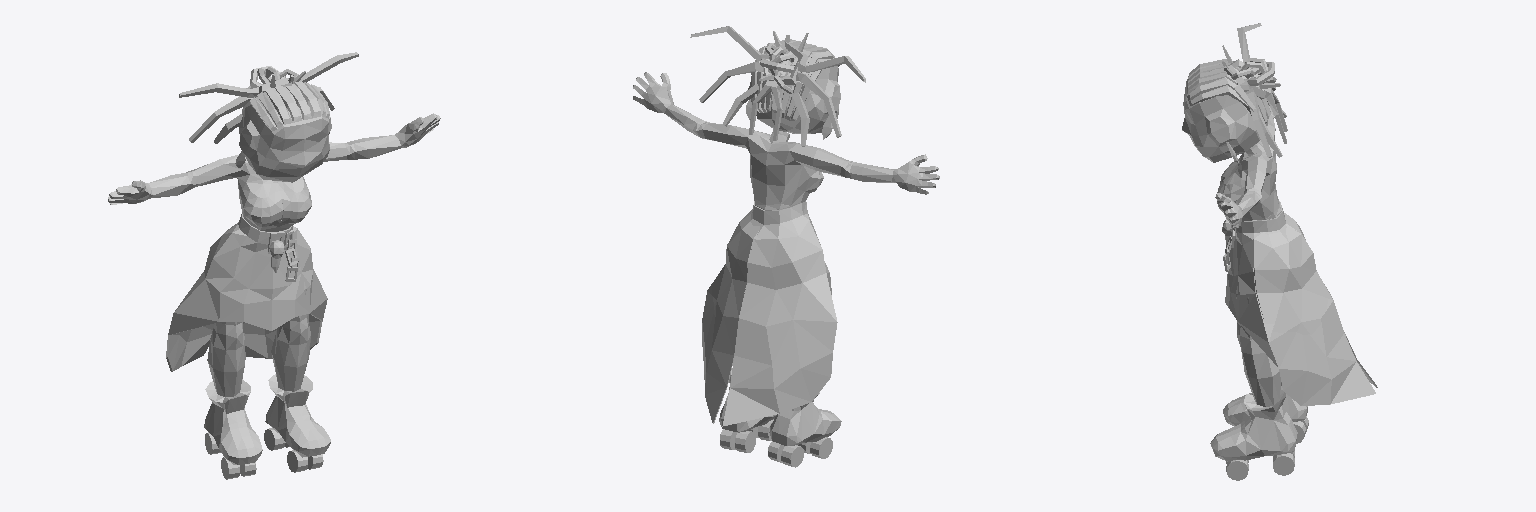
File: bruja_000078.obj
The picture shows the model from 3 angles: view 1: azimuth 30°, elevation 25°; view 2: azimuth 150°, elevation 25°; view 3: azimuth 270°, elevation 25°; orthographic projection.
Parts seen in each view (by area): view 1: Bruja_Plane.001; view 2: Bruja_Plane.001; view 3: Bruja_Plane.001.
Boxes of the visible parts, box(x1,y1,x2,y2) form: Bruja_Plane.001: box(108, 52, 440, 479); Bruja_Plane.001: box(633, 26, 939, 467); Bruja_Plane.001: box(1182, 23, 1377, 480).
Bounding box in the file's own units: 13.38 × 16.51 × 7.19.